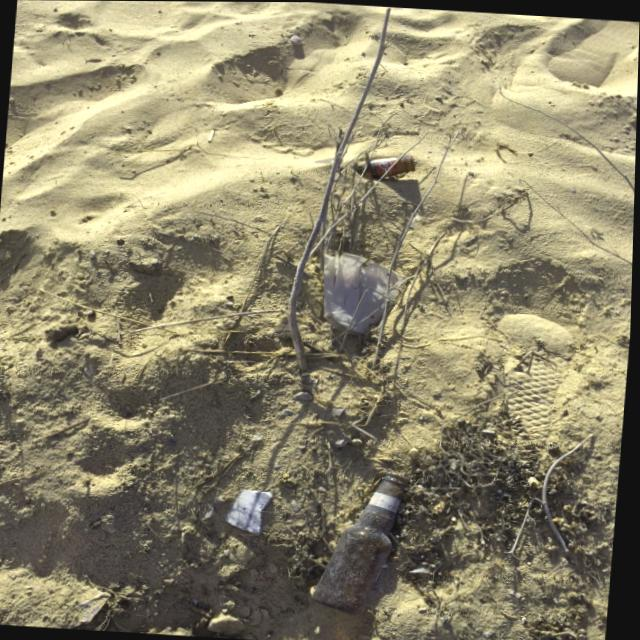Bottle-Glass: (303, 464, 422, 622)
Plastic: (312, 244, 419, 340), (219, 481, 282, 542)
